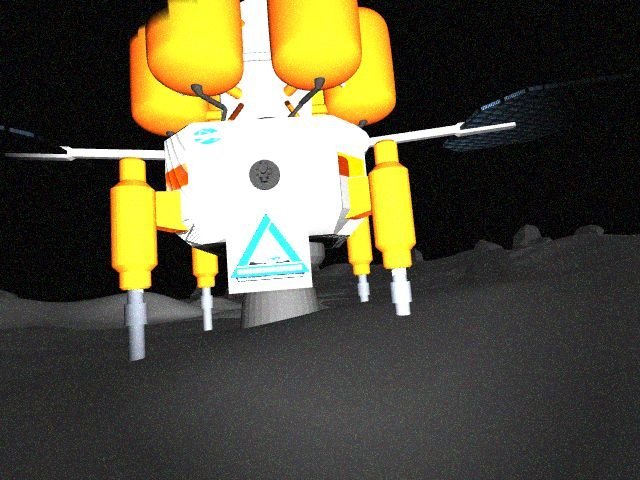basemarker: (226, 213, 311, 283)
